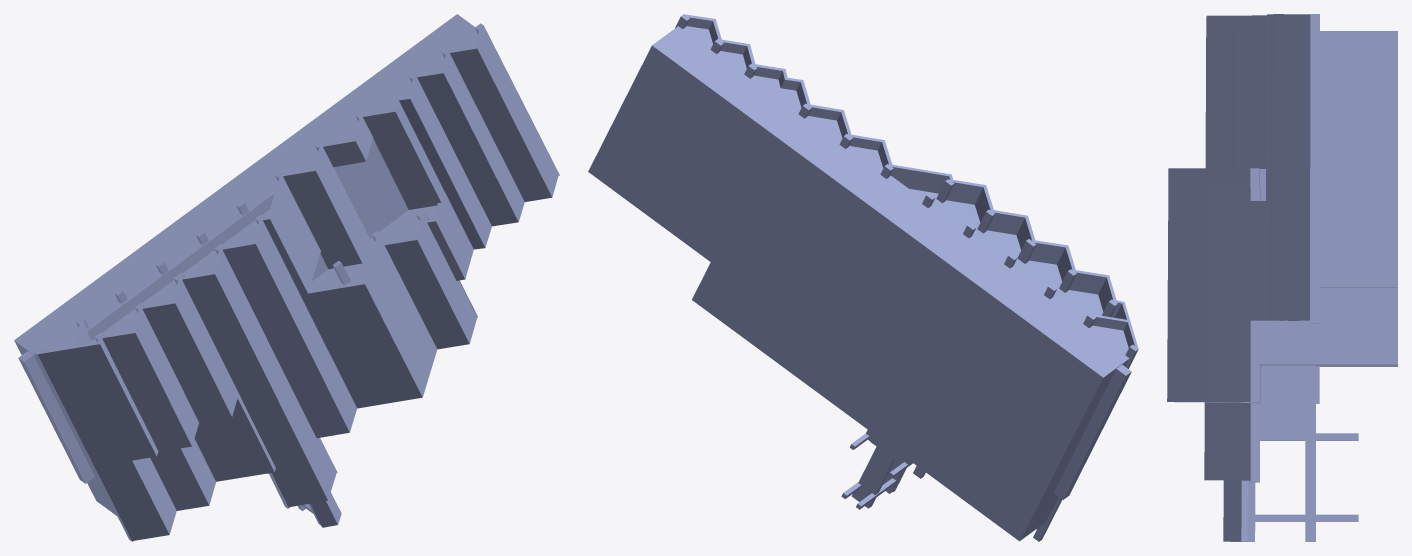
Rendered from cfa-studio.glb.
3 views of the same model, side by side, from view 1: azimuth 30°, elevation 25°; view 2: azimuth 150°, elevation 25°; view 3: azimuth 270°, elevation 25° (orthographic). The views are drawn at different scales.
Parts seen in each view (by area): view 1: CFA Studio; view 2: CFA Studio; view 3: CFA Studio.
Boxes of the visible parts, x1,y1,x2,y2 form: CFA Studio: (14, 14, 559, 541); CFA Studio: (588, 14, 1138, 541); CFA Studio: (1167, 14, 1397, 541).
Bounding box in the file's own units: 64.2 × 51.41 × 16.2.
